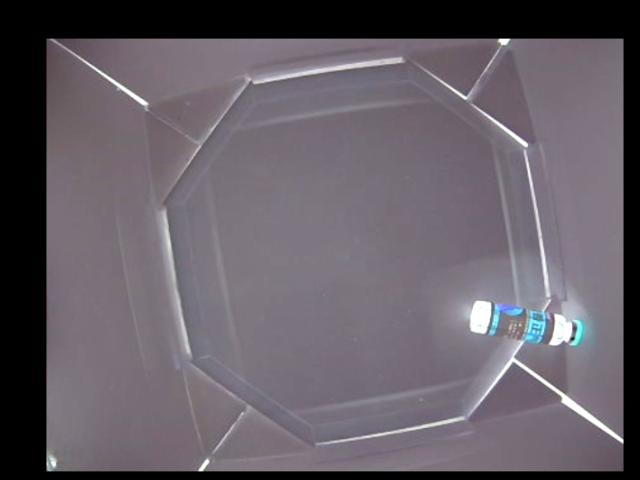Medicine: (471, 297, 583, 348)
